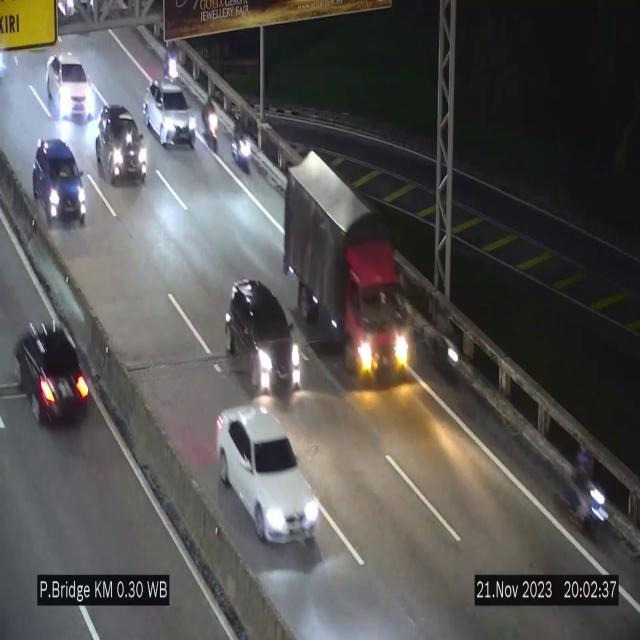Car: (216, 407, 320, 542), (6, 294, 98, 443), (223, 272, 304, 400), (31, 136, 88, 227), (93, 102, 148, 186), (44, 49, 94, 128), (144, 78, 198, 145)
Motorcycle: (566, 434, 612, 532), (429, 302, 460, 390), (230, 109, 256, 175), (202, 88, 220, 153), (166, 38, 180, 83)
Truck: (283, 150, 411, 387)
